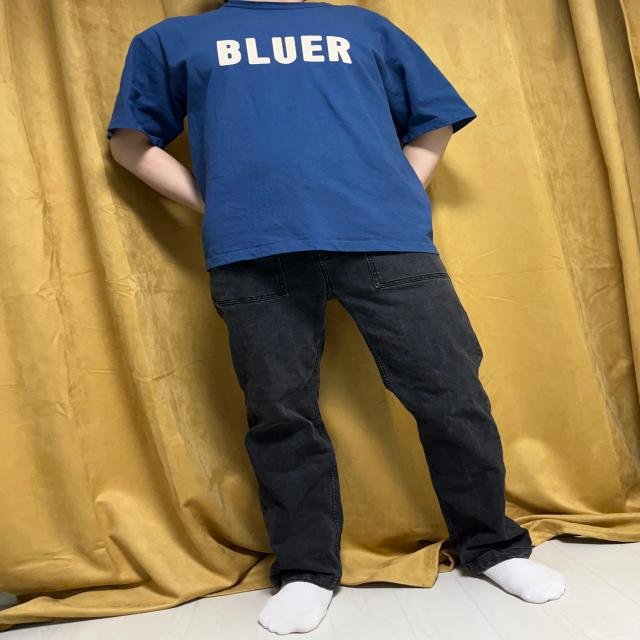denimpants: (216, 248, 542, 595)
shortsleeve: (107, 4, 474, 272)
